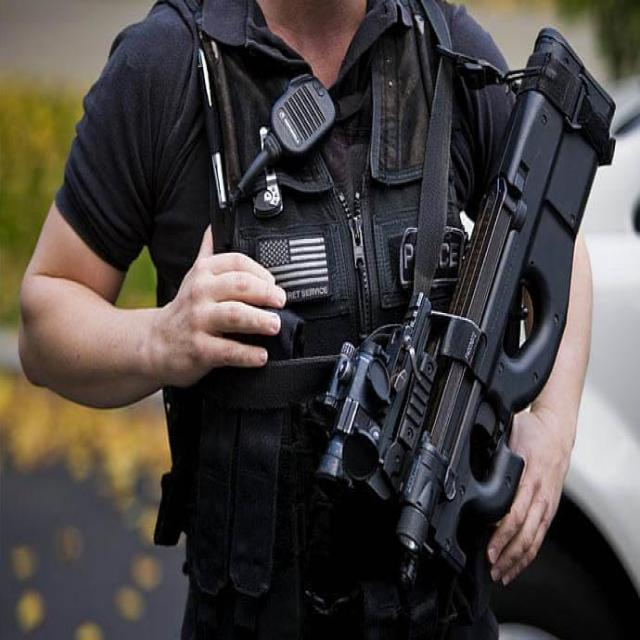SMG: (318, 29, 616, 572)
